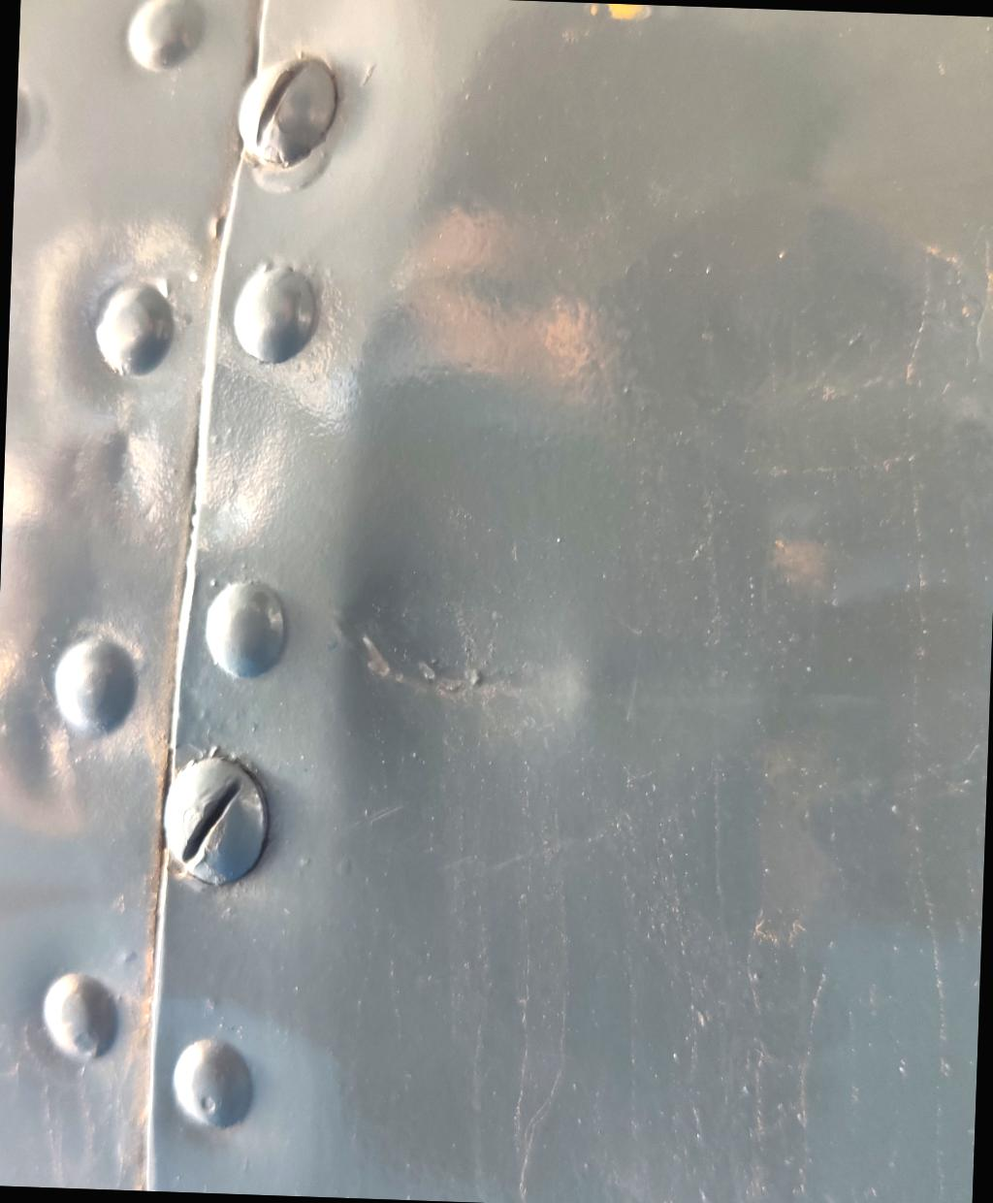dent: (307, 536, 616, 784)
